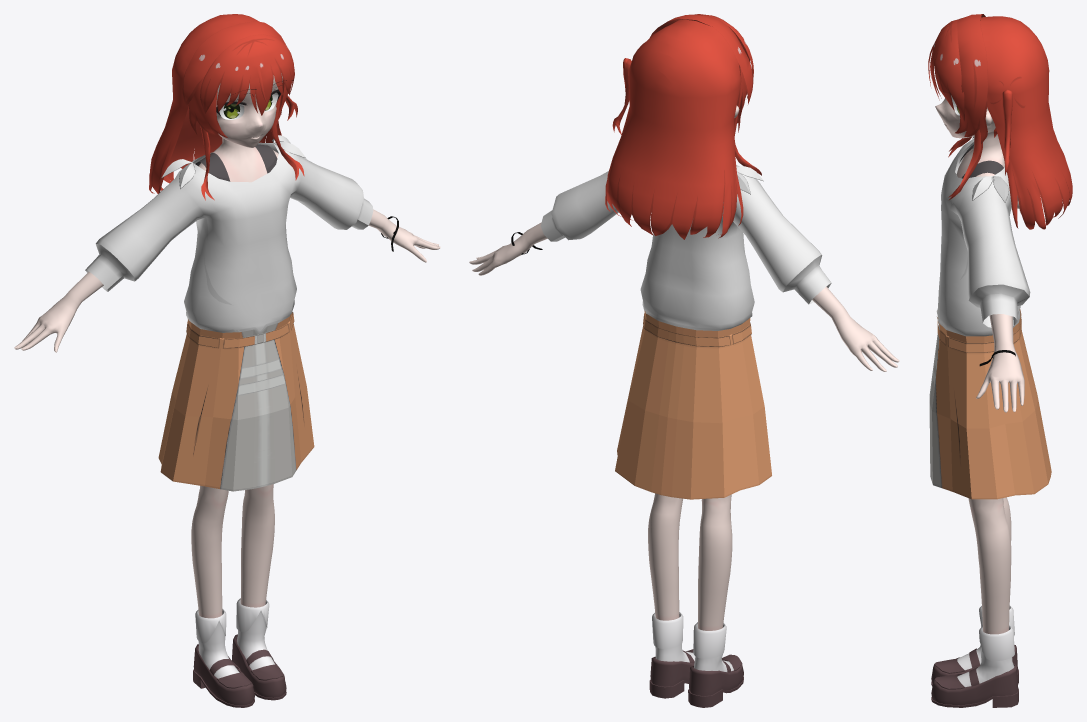
The picture shows the model from 3 angles, left to right: view 1: azimuth 30°, elevation 25°; view 2: azimuth 150°, elevation 25°; view 3: azimuth 270°, elevation 25°; orthographic projection.
Visible parts, largest first — view 1: 头发服饰, 皮肤; view 2: 头发服饰, 皮肤; view 3: 头发服饰, 皮肤.
Part boxes in pixels (left/top/right/bottom): 头发服饰: left=85, top=14, right=398, bottom=707; 皮肤: left=14, top=73, right=440, bottom=618; 头发服饰: left=511, top=14, right=831, bottom=707; 皮肤: left=469, top=105, right=899, bottom=630; 头发服饰: left=928, top=14, right=1072, bottom=707; 皮肤: left=935, top=95, right=1024, bottom=634.
Bounding box in the file's own units: 173 × 257 × 50.11.
Materials: 3 (3 with a texture image).
